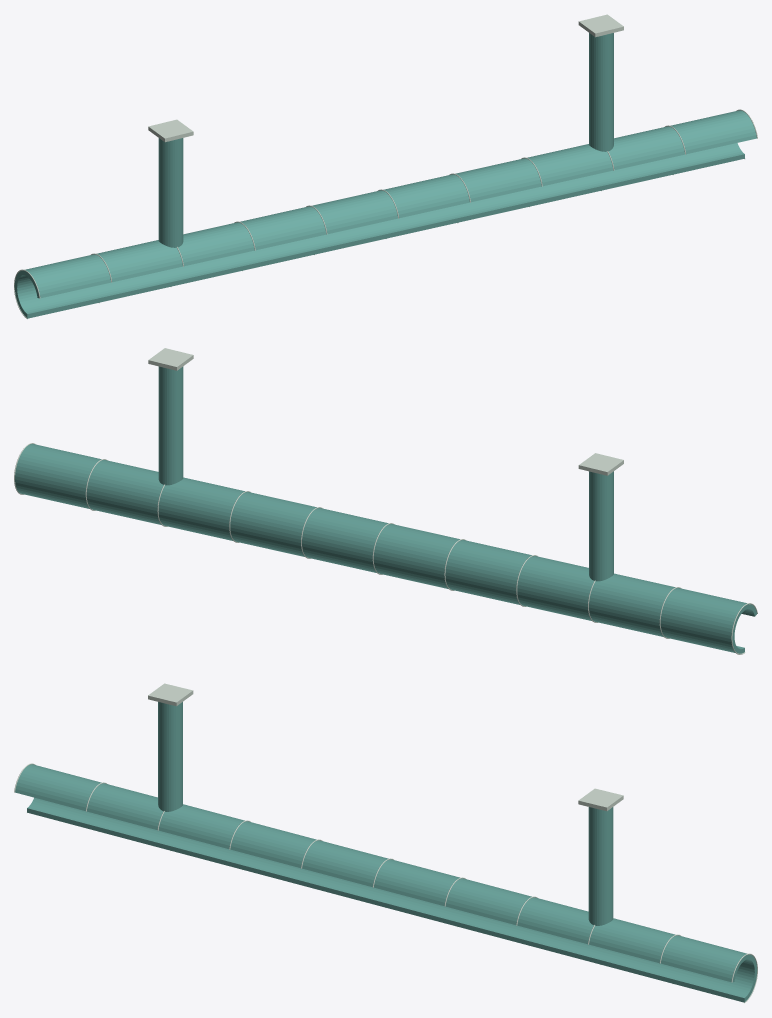
File: dtss-section.glb
3 views of the same model, one above another, from view 1: azimuth 30°, elevation 25°; view 2: azimuth 150°, elevation 25°; view 3: azimuth 330°, elevation 25° (orthographic).
Parts seen in each view (by area): view 1: dtss-section, representative-shaft-30, representative-shaft--30, shaft-cap--30, shaft-cap-30; view 2: dtss-section, representative-shaft-30, representative-shaft--30, shaft-cap--30, shaft-cap-30; view 3: dtss-section, representative-shaft-30, representative-shaft--30, shaft-cap-30, shaft-cap--30.
Boxes of the visible parts, left/top/right/bottom form: dtss-section: left=14, top=110, right=756, bottom=318; representative-shaft-30: left=589, top=33, right=613, bottom=151; representative-shaft--30: left=158, top=138, right=183, bottom=247; shaft-cap--30: left=148, top=119, right=193, bottom=142; shaft-cap-30: left=578, top=14, right=623, bottom=37; dtss-section: left=15, top=444, right=756, bottom=653; representative-shaft-30: left=158, top=366, right=183, bottom=485; representative-shaft--30: left=589, top=471, right=613, bottom=581; shaft-cap--30: left=578, top=453, right=623, bottom=475; shaft-cap-30: left=148, top=348, right=193, bottom=370; dtss-section: left=15, top=764, right=757, bottom=1002; representative-shaft-30: left=588, top=807, right=613, bottom=925; representative-shaft--30: left=158, top=702, right=182, bottom=811; shaft-cap-30: left=578, top=788, right=623, bottom=811; shaft-cap--30: left=148, top=683, right=193, bottom=706.
Size of the model in its own units: 100 by 22.71 by 6.31.
